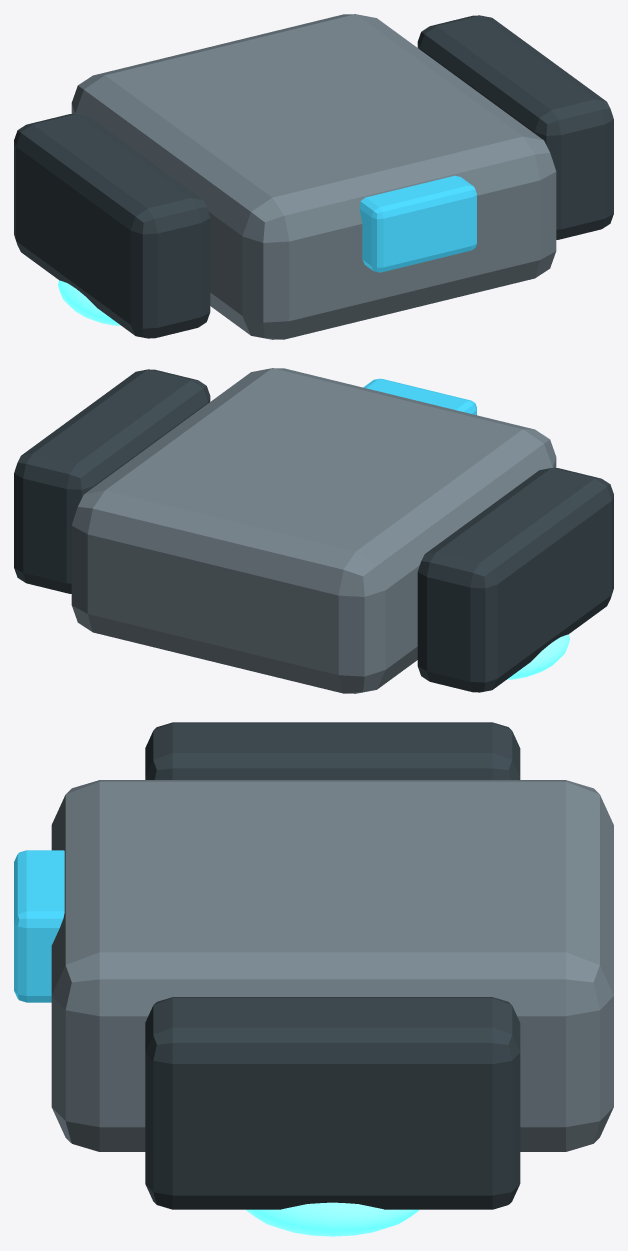
Rendered from service_drone.glb.
3 renders of one model, top to bottom at view 1: azimuth 30°, elevation 25°; view 2: azimuth 150°, elevation 25°; view 3: azimuth 270°, elevation 25°, orthographic. The views are drawn at different scales.
Visible parts, largest first — view 1: Hangar_Brushed_Metal, Hangar_Recess_Metal, Crew_Screen_Blue, Hangar_Light_Cyan; view 2: Hangar_Brushed_Metal, Hangar_Recess_Metal, Crew_Screen_Blue, Hangar_Light_Cyan; view 3: Hangar_Brushed_Metal, Hangar_Recess_Metal, Crew_Screen_Blue, Hangar_Light_Cyan.
Boxes of the visible parts, left/top/right/bottom form: Hangar_Brushed_Metal: left=71, top=14, right=556, bottom=339; Hangar_Recess_Metal: left=14, top=15, right=613, bottom=338; Crew_Screen_Blue: left=359, top=175, right=476, bottom=272; Hangar_Light_Cyan: left=58, top=280, right=120, bottom=325; Hangar_Brushed_Metal: left=71, top=368, right=556, bottom=693; Hangar_Recess_Metal: left=14, top=369, right=613, bottom=692; Crew_Screen_Blue: left=363, top=378, right=476, bottom=415; Hangar_Light_Cyan: left=507, top=634, right=569, bottom=679; Hangar_Brushed_Metal: left=51, top=780, right=613, bottom=1151; Hangar_Recess_Metal: left=145, top=722, right=520, bottom=1209; Crew_Screen_Blue: left=14, top=850, right=64, bottom=1002; Hangar_Light_Cyan: left=246, top=1202, right=418, bottom=1236.
Bounding box in the file's own units: 1.26 × 0.39 × 0.96.
